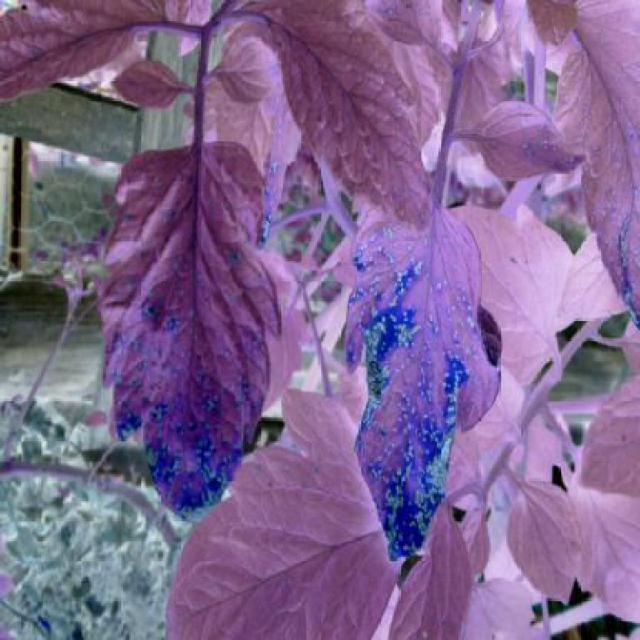Tomato Septoria spot leaf: (97, 141, 291, 537), (344, 196, 504, 570)
